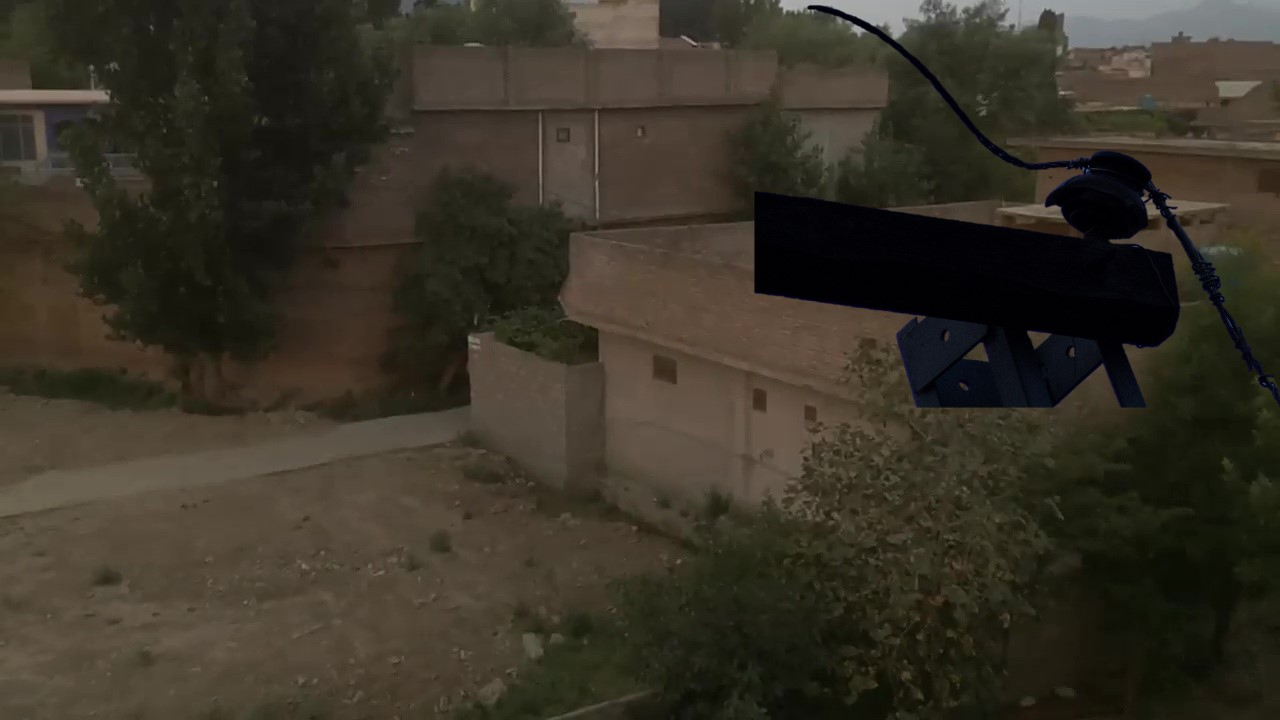defect_pin: (1047, 139, 1161, 252)
